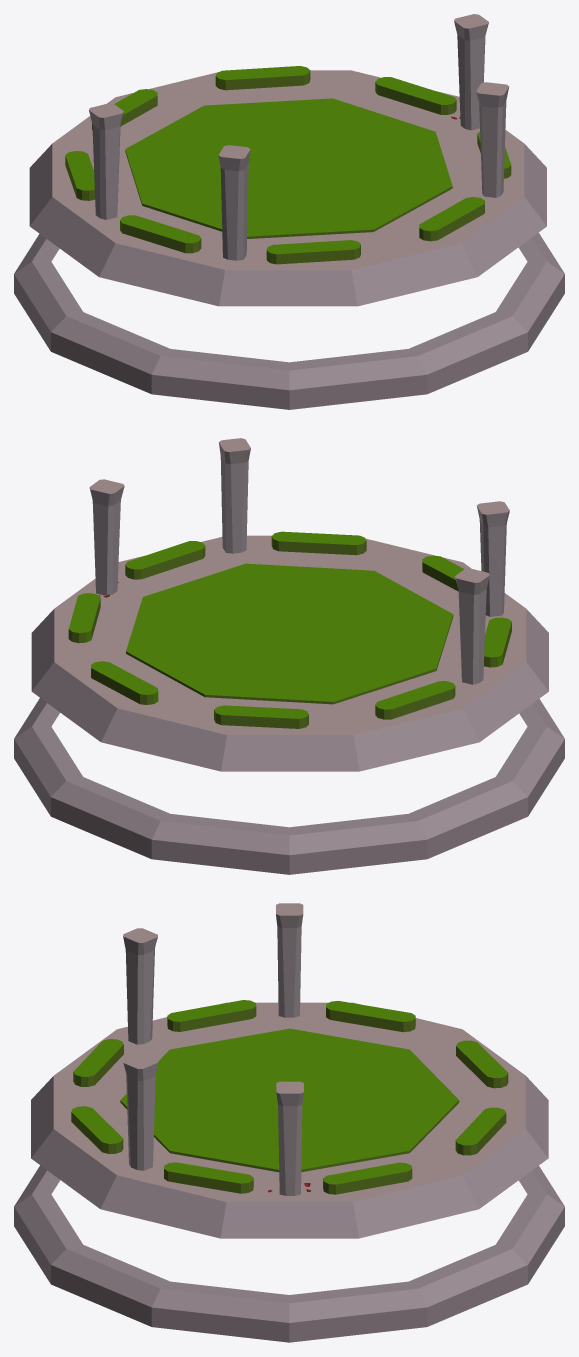
The model's file is PT_Sce_01_a.FBX.
The picture shows the model from 3 angles, top to bottom: view 1: azimuth 30°, elevation 25°; view 2: azimuth 150°, elevation 25°; view 3: azimuth 270°, elevation 25°; orthographic projection.
Visible parts, largest first — view 1: PT_Sce_01_a; view 2: PT_Sce_01_a; view 3: PT_Sce_01_a.
Boxes of the visible parts, <box> form: PT_Sce_01_a: <box>14,14,564,409</box>; PT_Sce_01_a: <box>14,438,564,874</box>; PT_Sce_01_a: <box>14,903,564,1342</box>.
Size of the model in its own units: 3019 by 1375 by 3019.
